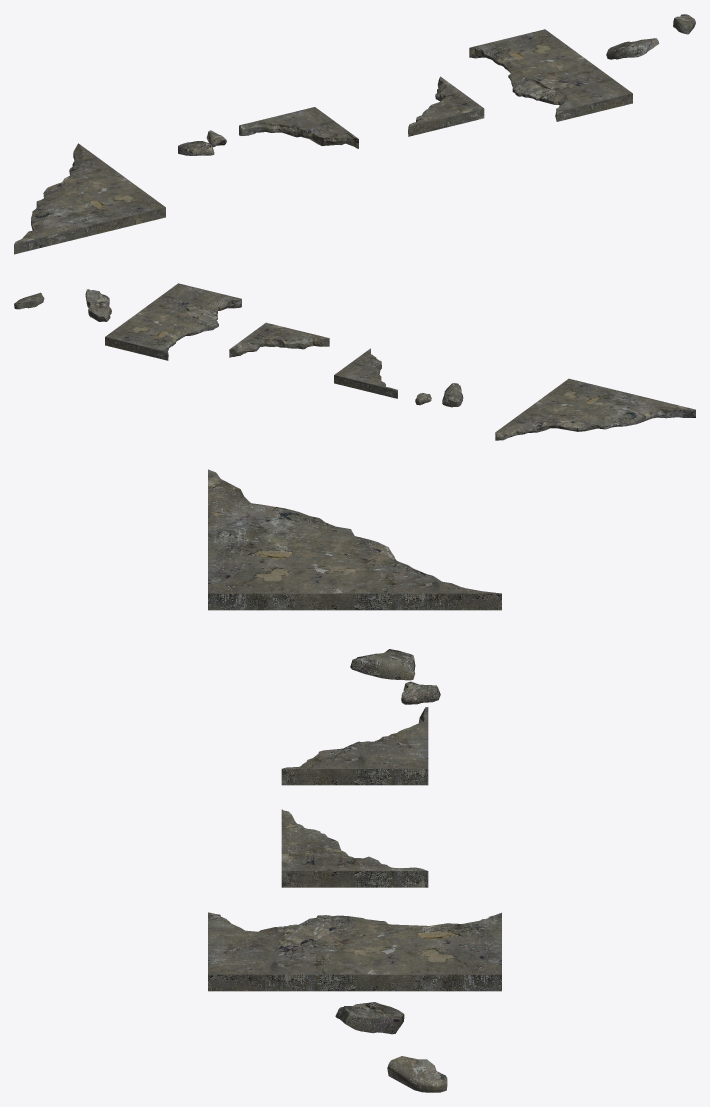
Rendered from concrete_parts.glb.
The picture shows the model from 3 angles, top to bottom: view 1: azimuth 30°, elevation 25°; view 2: azimuth 150°, elevation 25°; view 3: azimuth 270°, elevation 25°; orthographic projection. The views are drawn at different scales.
Parts seen in each view (by area): view 1: concrete_section128Floor001b_reference.smd_3, concrete_section64Floor001c_reference.smd_2, concrete_section64Floor001a_reference.smd_0, concrete_section64Floor001b_reference.smd_1, concrete_spawnchunk001a_reference.smd_4, concrete_spawnchunk001b_reference.smd_5; view 2: concrete_section128Floor001b_reference.smd_3, concrete_section64Floor001c_reference.smd_2, concrete_section64Floor001b_reference.smd_1, concrete_section64Floor001a_reference.smd_0, concrete_spawnchunk001a_reference.smd_4, concrete_spawnchunk001b_reference.smd_5, concrete_spawnchunk001c_reference.smd_6; view 3: concrete_section128Floor001b_reference.smd_3, concrete_section64Floor001c_reference.smd_2, concrete_section64Floor001a_reference.smd_0, concrete_section64Floor001b_reference.smd_1, concrete_spawnchunk001a_reference.smd_4, concrete_spawnchunk001c_reference.smd_6, concrete_spawnchunk001b_reference.smd_5.
Boxes of the visible parts, bbox=[...] form: concrete_section128Floor001b_reference.smd_3: bbox=[14, 143, 165, 254]; concrete_section64Floor001c_reference.smd_2: bbox=[469, 29, 632, 121]; concrete_section64Floor001a_reference.smd_0: bbox=[239, 107, 358, 148]; concrete_section64Floor001b_reference.smd_1: bbox=[408, 76, 484, 136]; concrete_spawnchunk001a_reference.smd_4: bbox=[606, 38, 658, 59]; concrete_spawnchunk001b_reference.smd_5: bbox=[178, 141, 214, 155]; concrete_section128Floor001b_reference.smd_3: bbox=[495, 378, 695, 440]; concrete_section64Floor001c_reference.smd_2: bbox=[105, 283, 241, 360]; concrete_section64Floor001b_reference.smd_1: bbox=[229, 322, 329, 357]; concrete_section64Floor001a_reference.smd_0: bbox=[334, 348, 397, 398]; concrete_spawnchunk001a_reference.smd_4: bbox=[85, 289, 111, 321]; concrete_spawnchunk001b_reference.smd_5: bbox=[442, 383, 463, 407]; concrete_spawnchunk001c_reference.smd_6: bbox=[14, 292, 44, 309]; concrete_section128Floor001b_reference.smd_3: bbox=[208, 469, 501, 610]; concrete_section64Floor001c_reference.smd_2: bbox=[208, 912, 501, 991]; concrete_section64Floor001a_reference.smd_0: bbox=[281, 707, 428, 785]; concrete_section64Floor001b_reference.smd_1: bbox=[281, 809, 428, 887]; concrete_spawnchunk001a_reference.smd_4: bbox=[335, 1002, 404, 1034]; concrete_spawnchunk001c_reference.smd_6: bbox=[387, 1056, 447, 1092]; concrete_spawnchunk001b_reference.smd_5: bbox=[350, 649, 415, 680].
Size of the model in its own units: 11.96 by 0.3279 by 2.44.
1 material, 1 textured.
